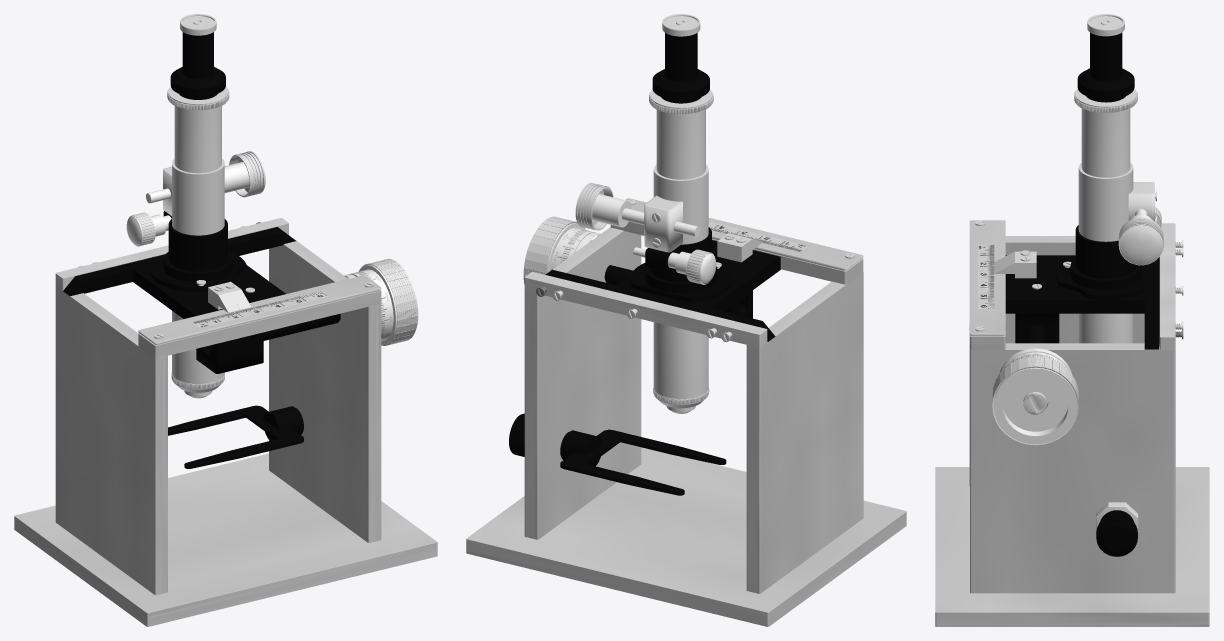
Rendered from micro2.fbx.
3 renders of one model, left to right at view 1: azimuth 30°, elevation 25°; view 2: azimuth 150°, elevation 25°; view 3: azimuth 270°, elevation 25°, orthographic. The views are drawn at different scales.
Parts seen in each view (by area): view 1: Cube, Lens, Lens.001, Cylinder.018, Knob, Cylinder.002, Circle.029; view 2: Cube, Lens, Lens.001, Cylinder.018, Cylinder.002, Knob; view 3: Cube, Lens, Lens.001, Knob, Cylinder.002, Cylinder.018.
Part boxes in pixels (x1=…): Cube: x1=14, y1=218, x2=437, y2=626; Lens: x1=126, y1=158, x2=285, y2=373; Lens.001: x1=167, y1=14, x2=229, y2=398; Cylinder.018: x1=168, y1=405, x2=303, y2=468; Knob: x1=349, y1=258, x2=418, y2=345; Cylinder.002: x1=146, y1=151, x2=265, y2=203; Circle.029: x1=205, y1=313, x2=340, y2=353; Cube: x1=466, y1=198, x2=906, y2=626; Lens: x1=617, y1=164, x2=780, y2=318; Lens.001: x1=649, y1=14, x2=713, y2=413; Cylinder.018: x1=509, y1=413, x2=726, y2=495; Cylinder.002: x1=575, y1=182, x2=700, y2=237; Knob: x1=523, y1=216, x2=595, y2=284; Cube: x1=935, y1=220, x2=1209, y2=626; Lens: x1=994, y1=162, x2=1161, y2=343; Lens.001: x1=1074, y1=14, x2=1137, y2=343; Knob: x1=992, y1=352, x2=1078, y2=445; Cylinder.002: x1=1118, y1=209, x2=1163, y2=265; Cylinder.018: x1=1096, y1=510, x2=1137, y2=556.
Size of the model in its own units: 206 by 337 by 159.
Materials: 7 (3 with a texture image).
